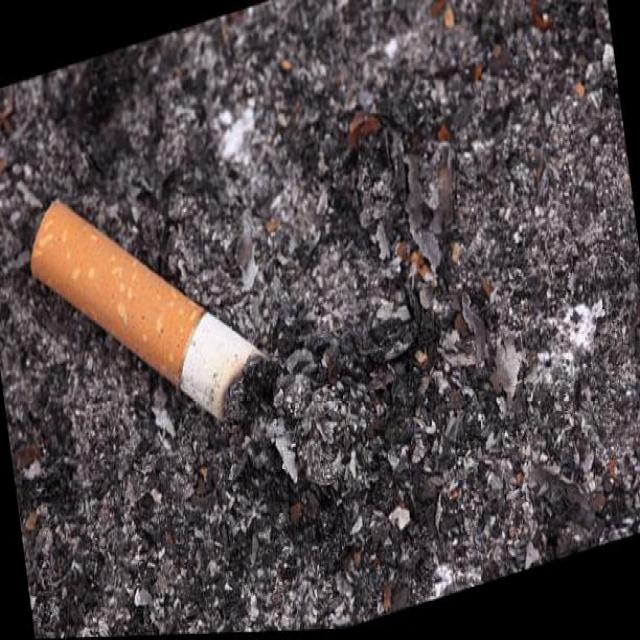cigarette: (22, 135, 282, 492)
